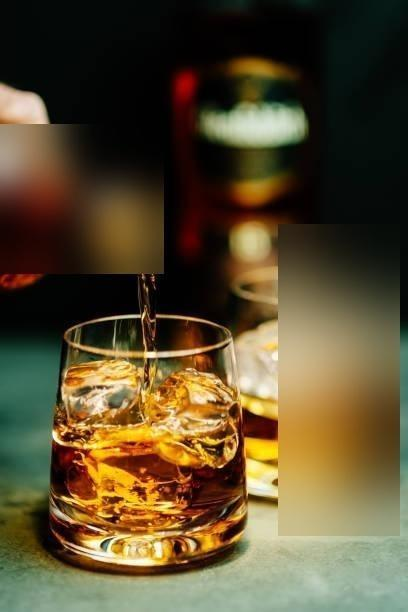glass-normal: (44, 313, 249, 573)
